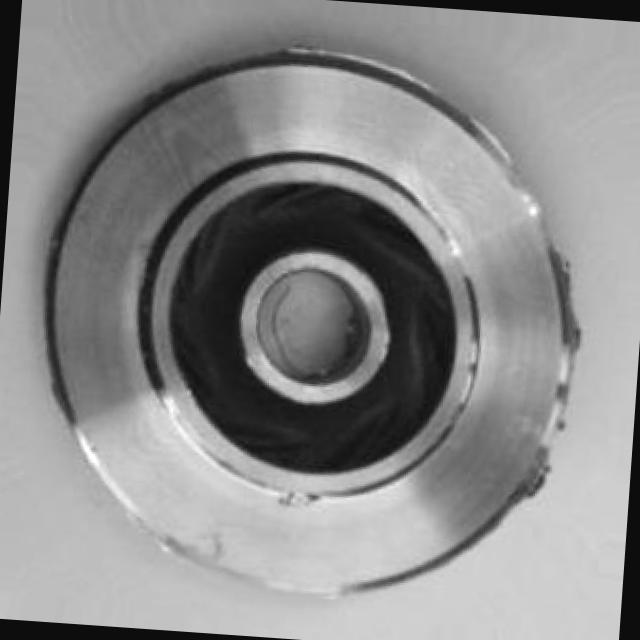Defect: (544, 236, 583, 324)
